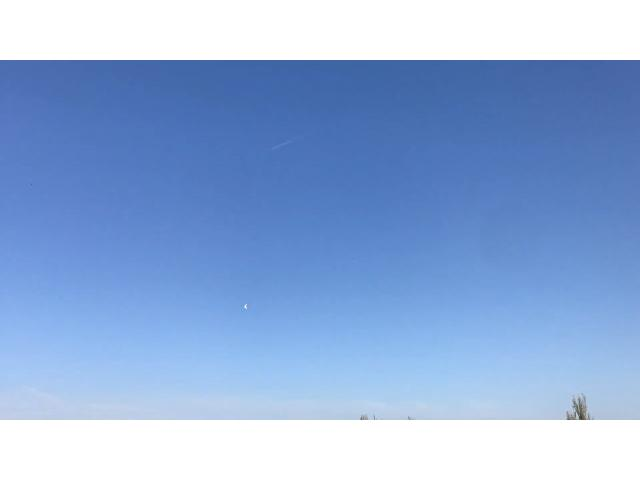Anti-Drone: (235, 298, 253, 314)
